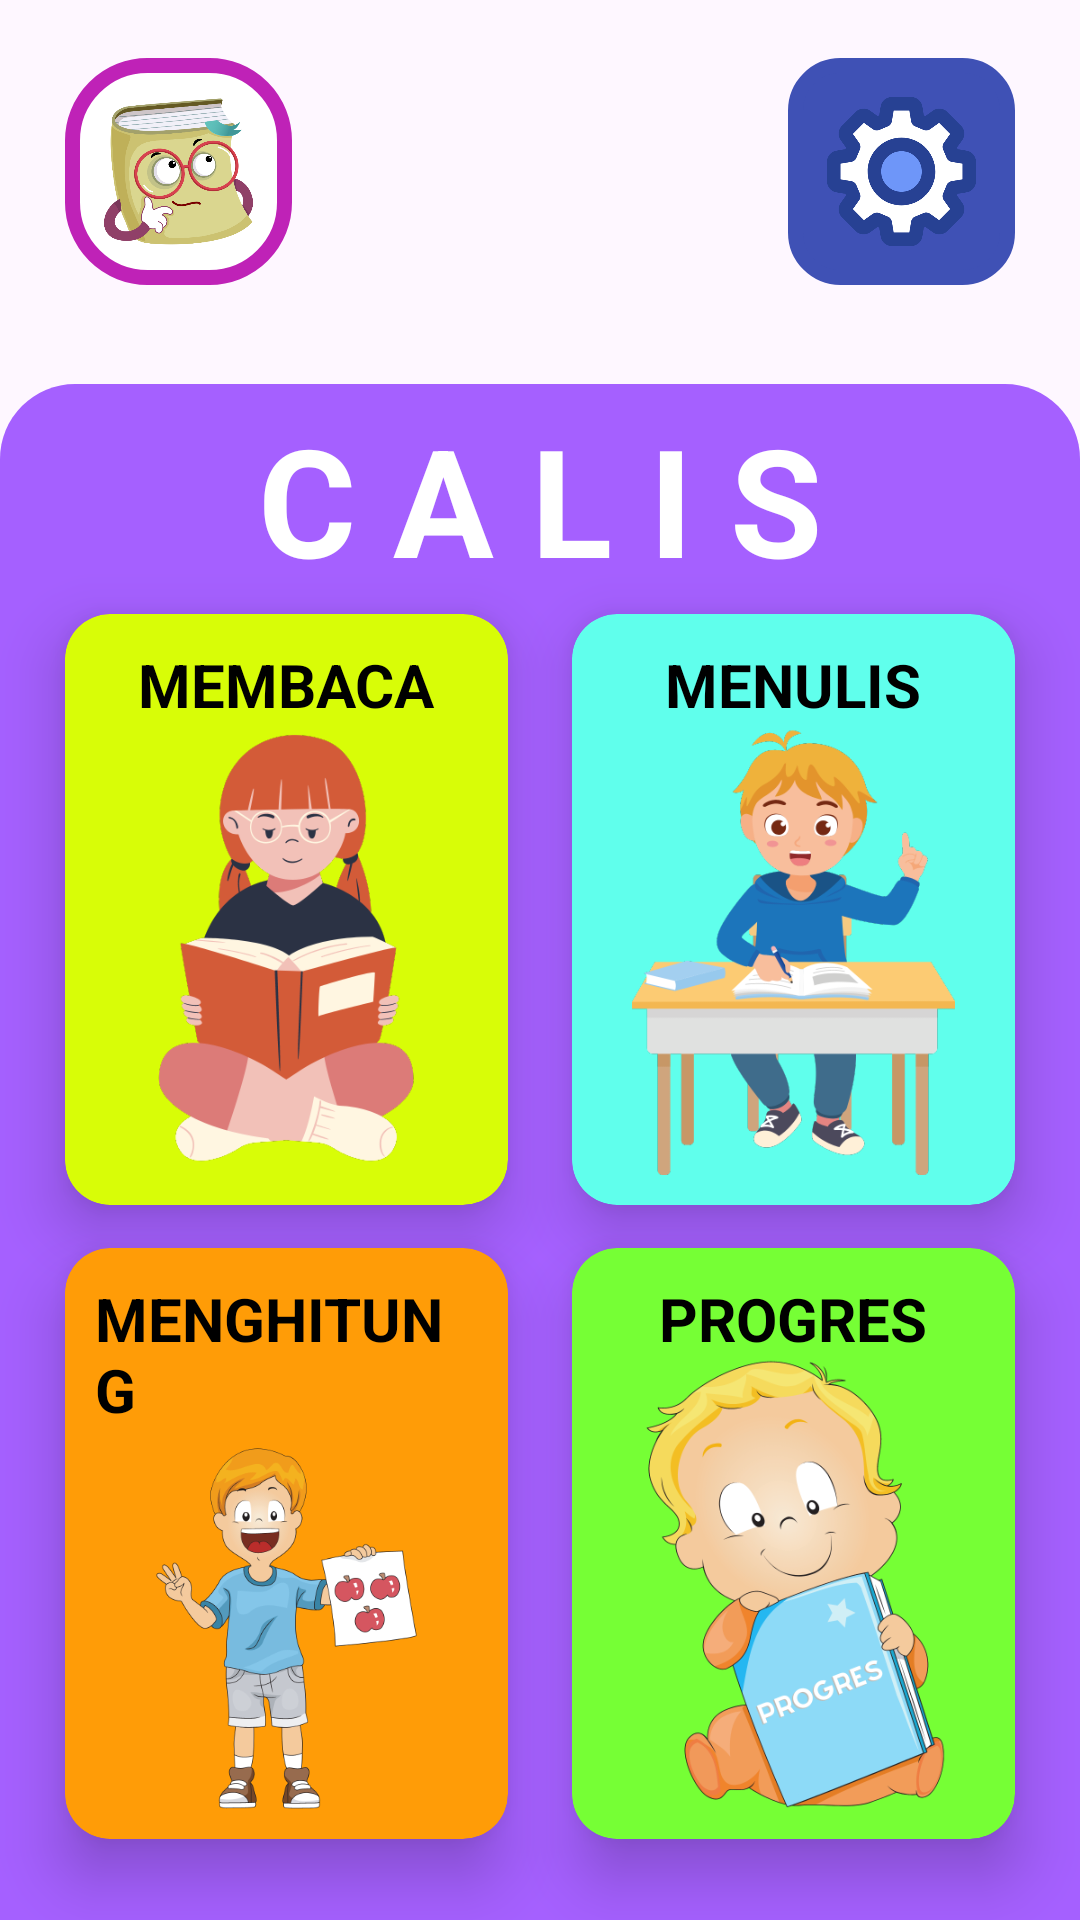

Point at icon controls on the screen. Image size 1080w x 1920h, points as (x,y).
Menu Profile: (178,171)
Menu Settings: (901,171)
